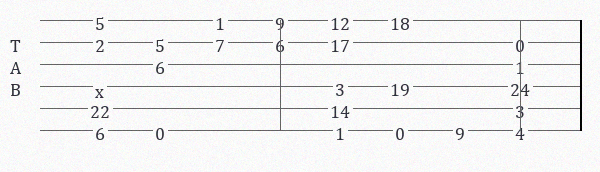0: (155, 122, 169, 138), (395, 122, 409, 138), (515, 34, 529, 50)
1: (215, 12, 229, 28), (335, 122, 349, 138), (515, 56, 529, 72)
12: (330, 12, 354, 28)
14: (330, 100, 354, 116)
17: (330, 34, 354, 51)
18: (390, 12, 414, 28)
19: (390, 78, 414, 94)
2: (95, 34, 109, 50)
22: (90, 100, 114, 116)
24: (510, 78, 534, 94)
3: (335, 78, 349, 94), (515, 100, 529, 116)
4: (515, 122, 529, 138)
5: (95, 12, 109, 29), (155, 34, 169, 51)
6: (95, 122, 109, 138), (155, 56, 169, 72), (275, 34, 289, 50)
7: (215, 34, 229, 51)
9: (275, 12, 289, 28), (455, 122, 469, 138)
x: (95, 80, 108, 93)
